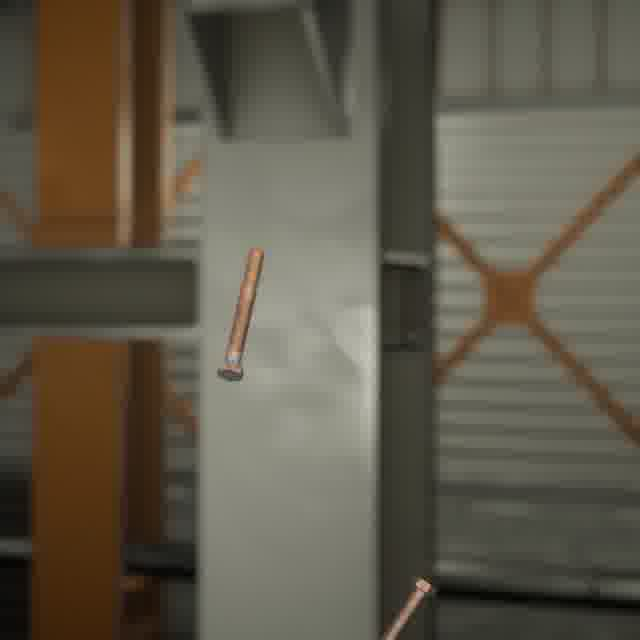bolt: (213, 243, 268, 385), (375, 570, 441, 640)
